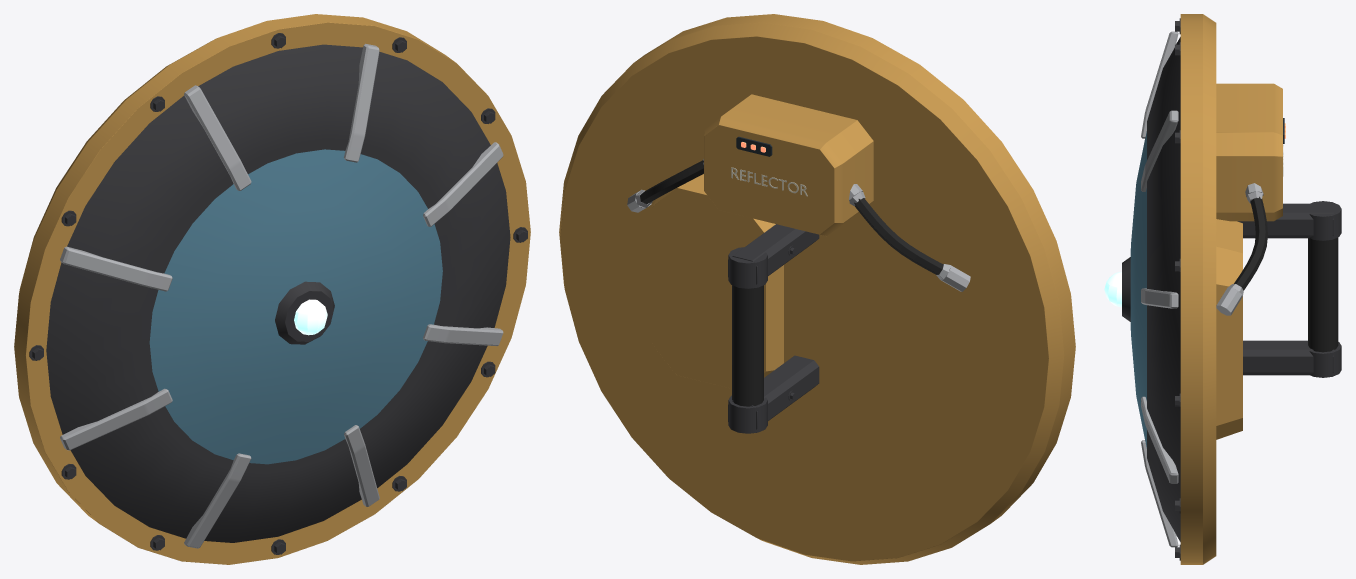
File: reflector.glb
The picture shows the model from 3 angles, left to right: view 1: azimuth 30°, elevation 25°; view 2: azimuth 150°, elevation 25°; view 3: azimuth 270°, elevation 25°; orthographic projection. The views are drawn at different scales.
Visible parts, largest first — view 1: Body; view 2: Body; view 3: Body.
Boxes of the visible parts, x1,y1,x2,y2 form: Body: [14, 14, 530, 564]; Body: [559, 14, 1075, 564]; Body: [1104, 14, 1341, 564].
Bounding box in the file's own units: 0.62 × 0.62 × 0.267.
